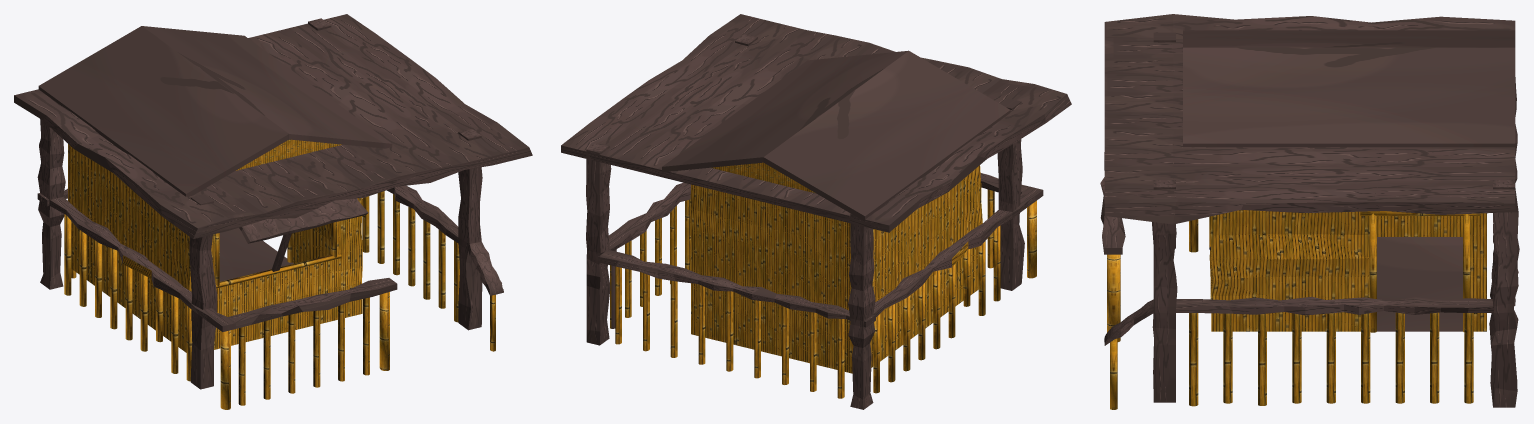
The model's file is kubo.fbx.
3 renders of one model, left to right at view 1: azimuth 30°, elevation 25°; view 2: azimuth 150°, elevation 25°; view 3: azimuth 270°, elevation 25°, orthographic. The views are drawn at different scales.
Visible parts, largest first — view 1: bamboo sticks; view 2: bamboo sticks; view 3: bamboo sticks.
Boxes of the visible parts, x1,y1,x2,y2 form: bamboo sticks: [14, 14, 532, 409]; bamboo sticks: [561, 14, 1071, 409]; bamboo sticks: [1100, 14, 1519, 409].
Bounding box in the file's own units: 1092 × 716 × 1023.
Materials: 2 (2 with a texture image).
